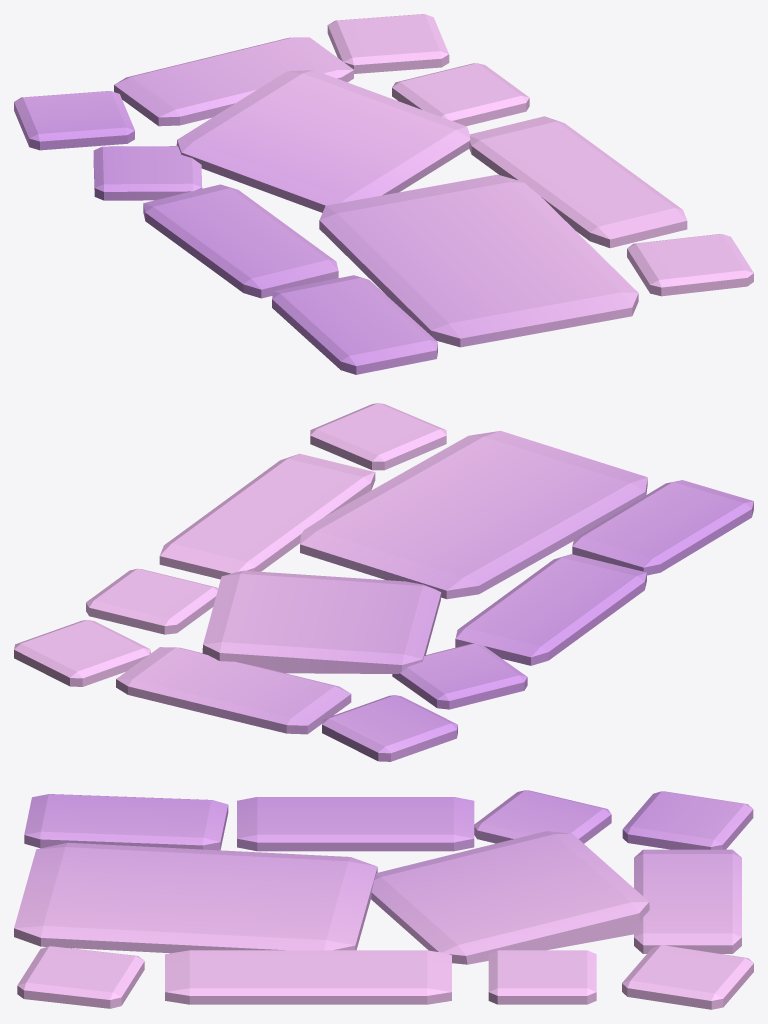
The model's file is Pavement_02.fbx.
3 renders of one model, top to bottom at view 1: azimuth 30°, elevation 25°; view 2: azimuth 150°, elevation 25°; view 3: azimuth 270°, elevation 25°, orthographic. The views are drawn at different scales.
Parts seen in each view (by area): view 1: PavementMesh_02; view 2: PavementMesh_02; view 3: PavementMesh_02.
Part boxes in pixels (<box>): PavementMesh_02: <box>14,14,753,374</box>; PavementMesh_02: <box>14,403,753,761</box>; PavementMesh_02: <box>14,790,753,1009</box>.
Size of the model in its own units: 810 by 49.91 by 1204.
